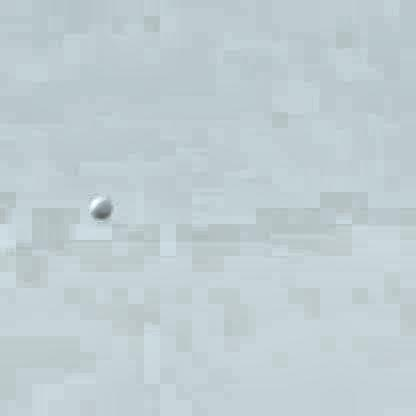golfball: (87, 195, 111, 219)
